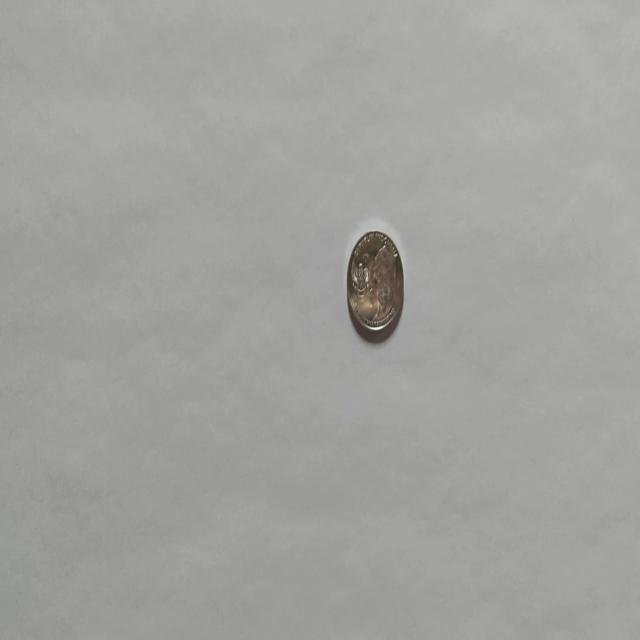dua ratus rupiah: (346, 228, 404, 340)
